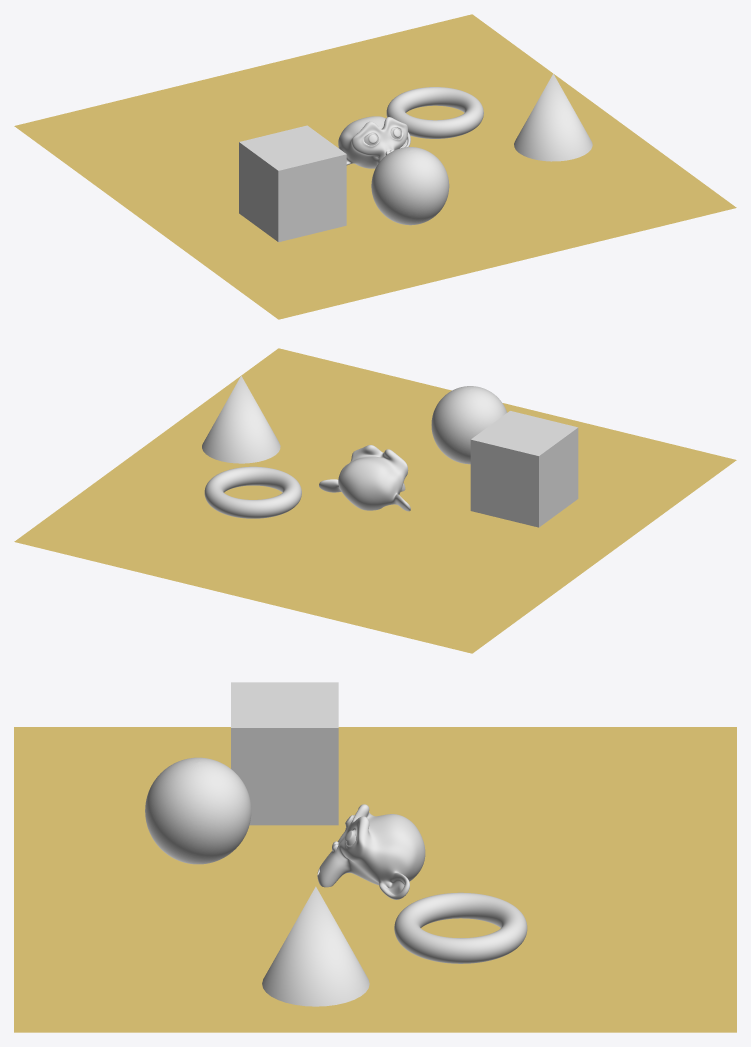
3 renders of one model, top to bottom at view 1: azimuth 30°, elevation 25°; view 2: azimuth 150°, elevation 25°; view 3: azimuth 270°, elevation 25°, orthographic. The views are drawn at different scales.
Parts seen in each view (by area): view 1: Plane, Cube, Sphere, Cone, Torus, Suzanne; view 2: Plane, Cube, Cone, Suzanne, Sphere, Torus; view 3: Plane, Cube, Sphere, Cone, Torus, Suzanne.
Part boxes in pixels (x1,y1,x2,y2): Plane: [14, 14, 736, 319]; Cube: [239, 125, 346, 242]; Sphere: [371, 147, 449, 225]; Cone: [514, 73, 592, 161]; Torus: [386, 87, 483, 138]; Suzanne: [338, 116, 410, 168]; Plane: [14, 348, 736, 653]; Cube: [470, 411, 578, 527]; Cone: [202, 376, 280, 463]; Suzanne: [319, 445, 410, 511]; Sphere: [431, 386, 507, 464]; Torus: [204, 466, 301, 518]; Plane: [14, 727, 736, 1032]; Cube: [231, 682, 338, 825]; Sphere: [145, 757, 251, 864]; Cone: [262, 886, 369, 1006]; Torus: [394, 892, 527, 963]; Suzanne: [317, 804, 425, 899].
Size of the model in its own units: 13.43 by 2.1 by 13.43.
